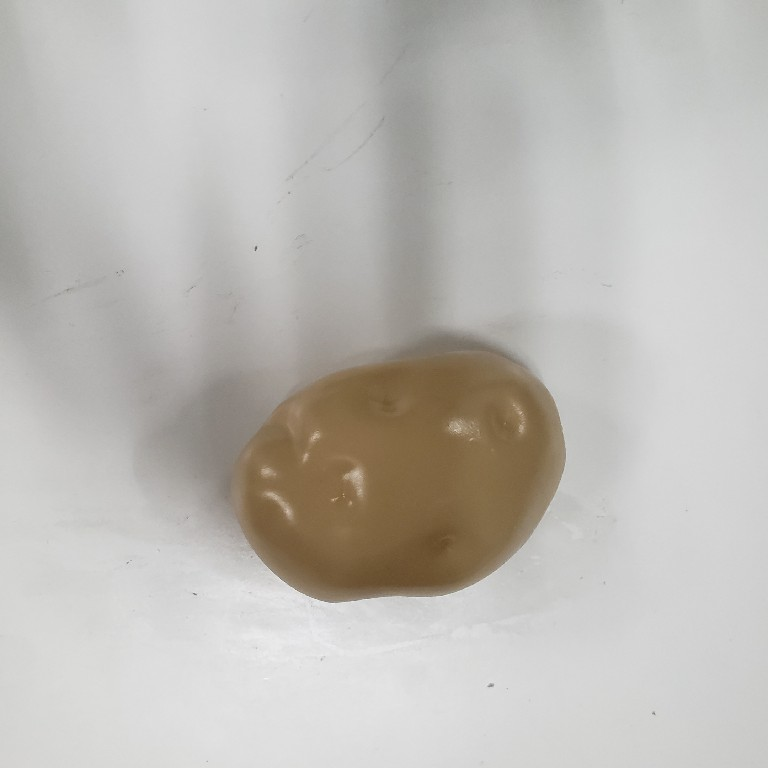fruit_potato: (222, 346, 569, 606)
